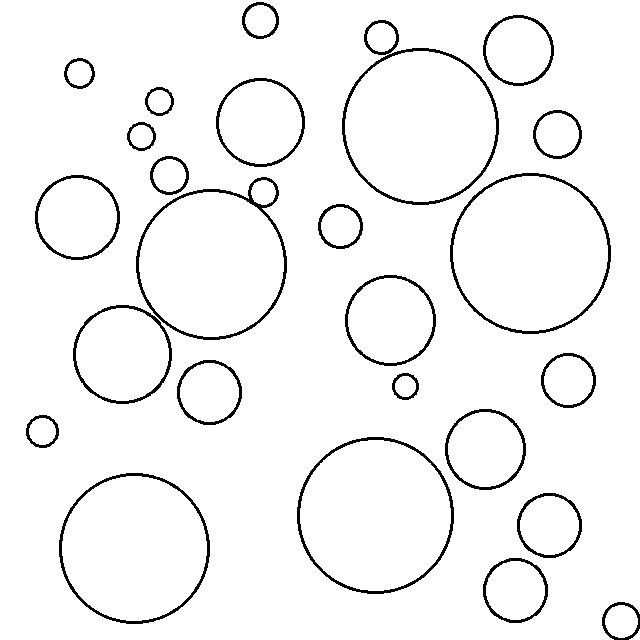circle: (448, 168, 614, 337), (293, 433, 457, 598), (339, 45, 502, 209), (133, 185, 291, 344), (57, 468, 214, 627), (70, 301, 175, 408), (341, 272, 440, 367), (213, 74, 308, 171), (32, 171, 122, 263), (441, 405, 531, 494), (481, 12, 558, 89), (174, 355, 245, 429), (481, 555, 552, 627), (516, 488, 586, 561), (539, 350, 600, 413), (530, 104, 585, 162), (315, 201, 367, 253), (240, 0, 282, 44), (149, 155, 192, 197), (599, 598, 640, 640), (361, 18, 402, 59), (23, 410, 63, 452), (61, 54, 99, 93), (124, 119, 160, 154), (142, 84, 178, 119), (247, 175, 281, 209), (389, 370, 423, 404)
